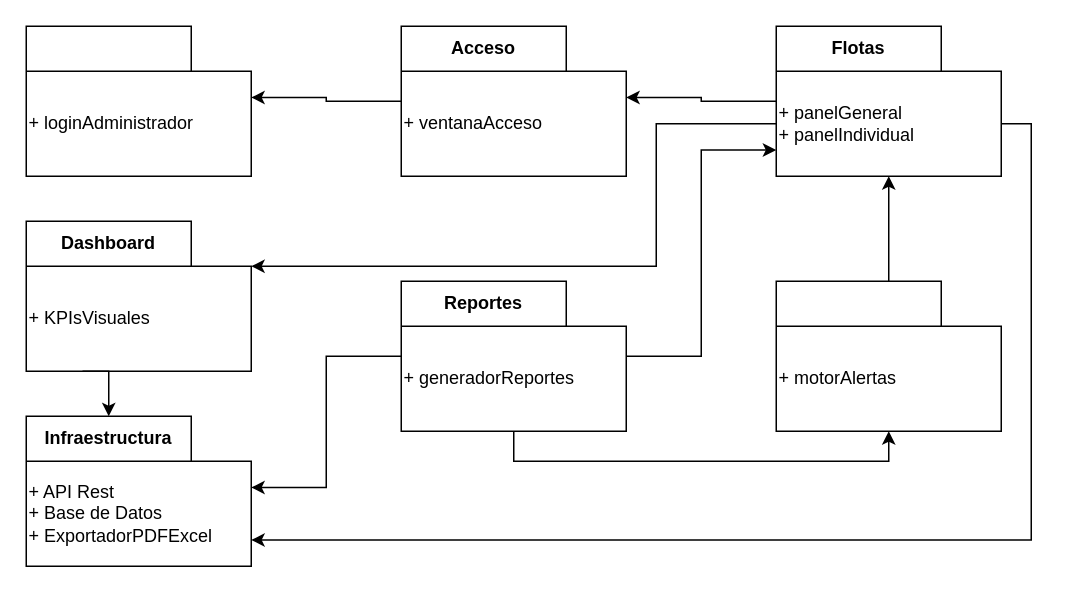
Some shapes in this 1070 by 593 pixel diagram are drawn without their labels. The shapes that lost their labels are listed below. From the top down, each one's centre as x and y in pixels, then its label:
point 138,100: Seguridad
point 888,355: Alertas
